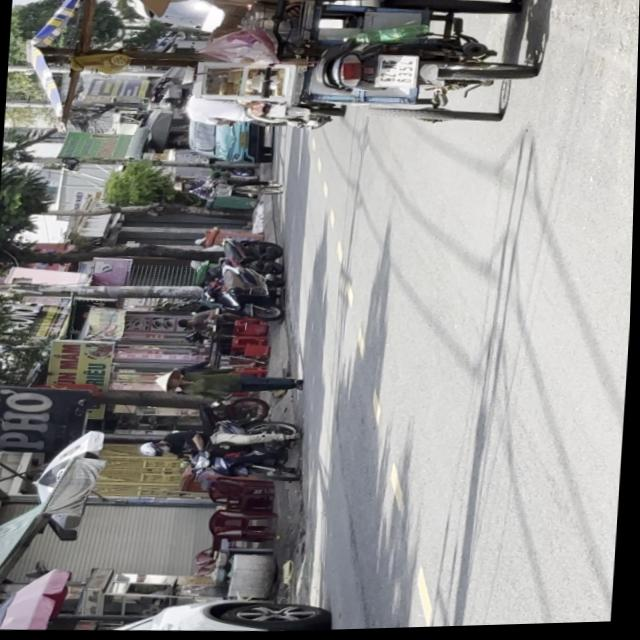helmet: (156, 97, 186, 114)
licenseplate: (138, 12, 521, 134), (154, 89, 344, 137)
nohelmet: (375, 56, 416, 90), (268, 104, 286, 120)
